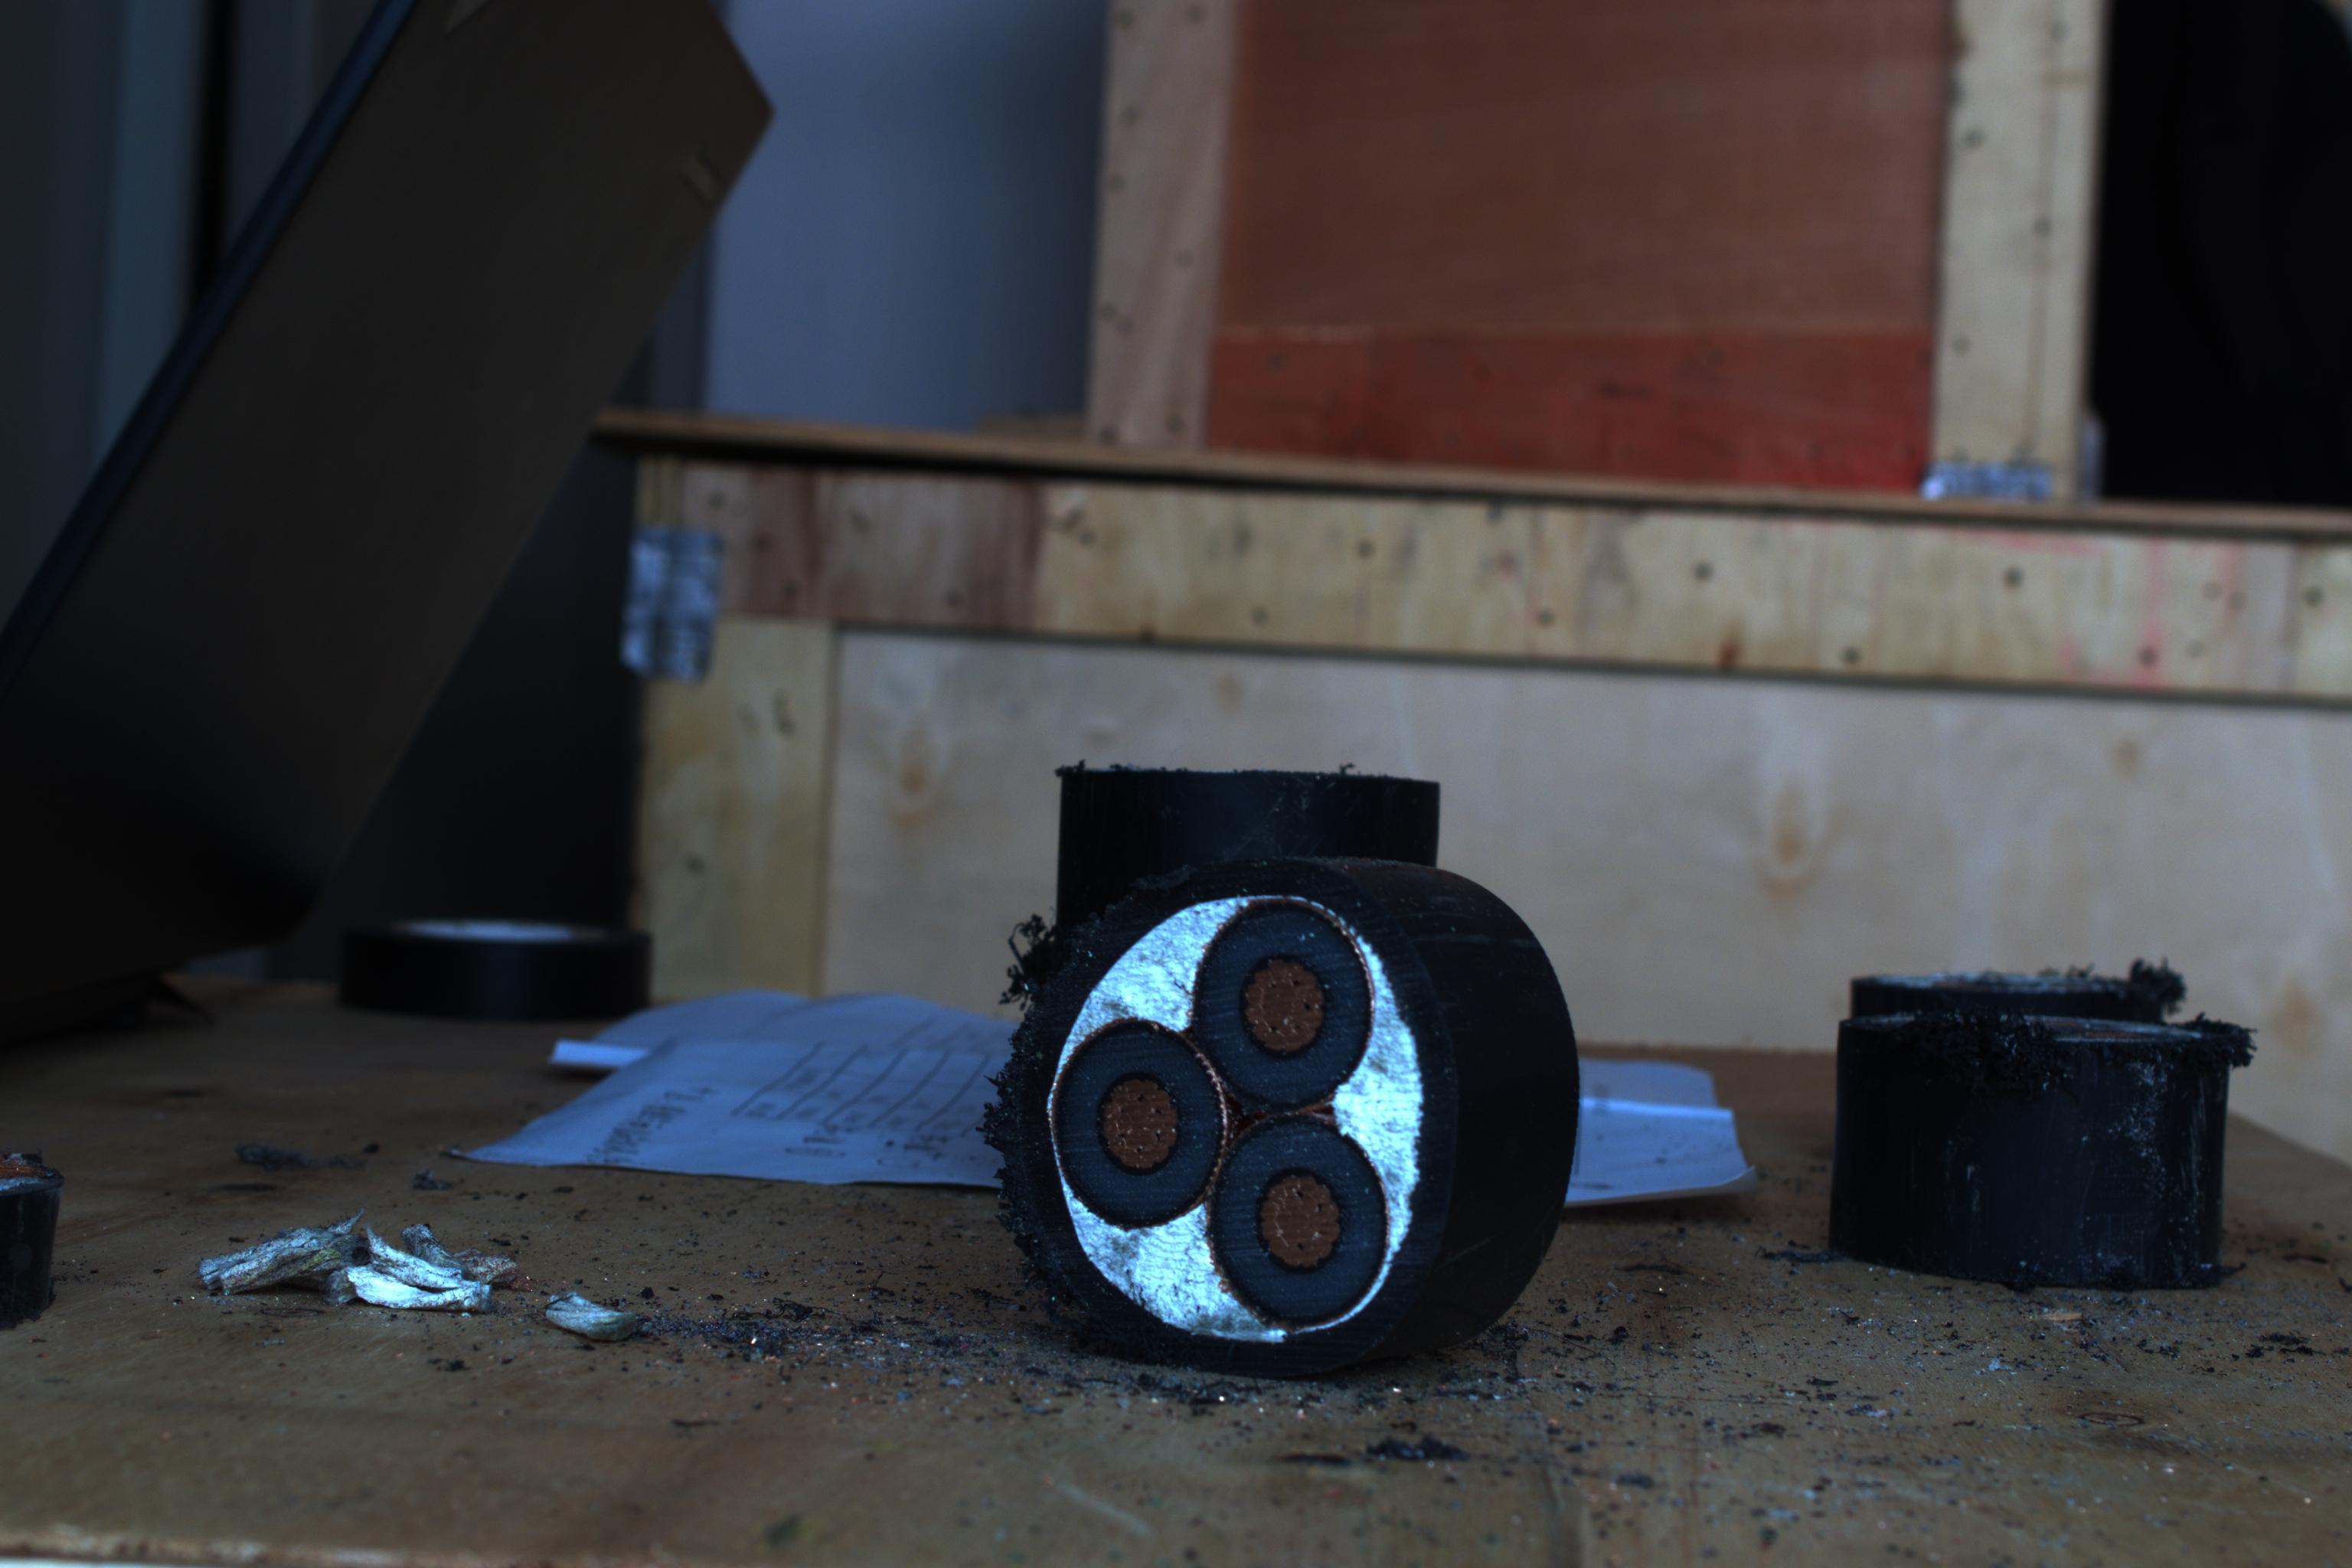YJV_8.7_10kV_3x70: (980, 864, 1465, 1344)
